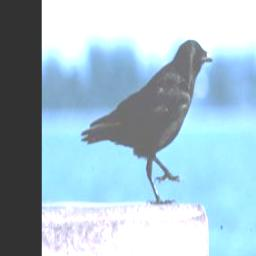Crow: (79, 33, 215, 206)
